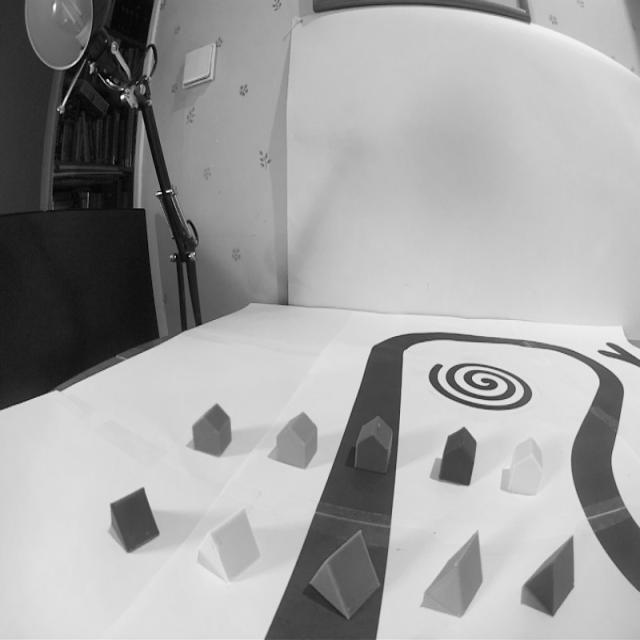home: (435, 427, 478, 487), (272, 412, 317, 469), (503, 438, 545, 496), (354, 415, 394, 475), (190, 403, 232, 458)
lineStraight: (258, 450, 404, 638)
nest: (428, 360, 534, 410)
triangle: (307, 529, 382, 620), (422, 530, 483, 618), (198, 508, 261, 582), (522, 534, 576, 616), (109, 488, 160, 554)
